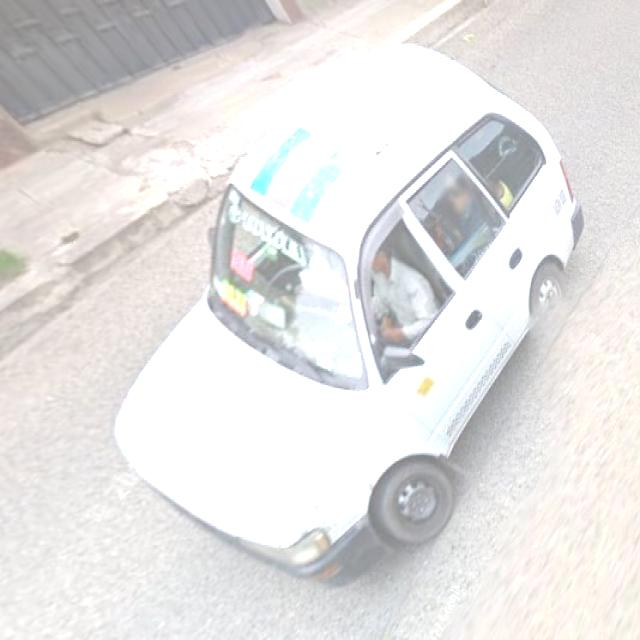car: (121, 52, 590, 582)
